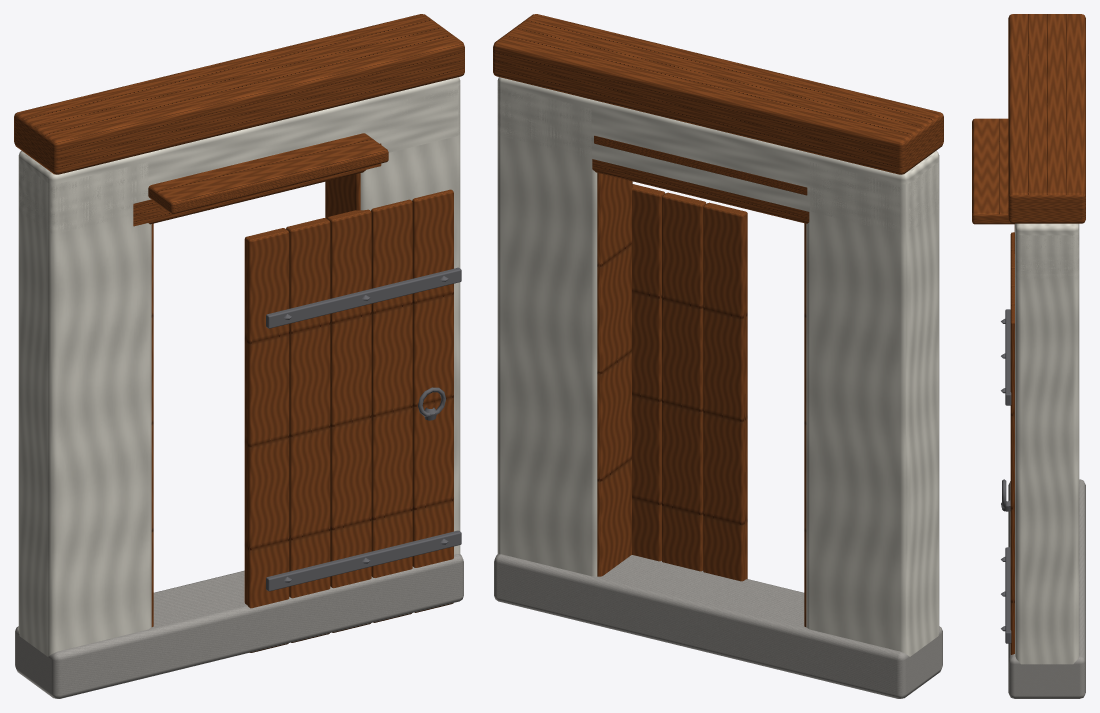
Rendered from witch-cottage-and-apothecary-cob-wall-door-section-ec4fa38c__32433.glb.
3 renders of one model, left to right at view 1: azimuth 30°, elevation 25°; view 2: azimuth 150°, elevation 25°; view 3: azimuth 270°, elevation 25°, orthographic. The views are drawn at different scales.
Visible parts, largest first — view 1: cob-wall-door-section, door-cottage/oak, door-cottage/iron; view 2: cob-wall-door-section, door-cottage/oak; view 3: cob-wall-door-section, door-cottage/oak, door-cottage/iron.
Part boxes in pixels (x1,y1,x2,y2): cob-wall-door-section: (14, 14, 464, 698); door-cottage/oak: (244, 189, 453, 652); door-cottage/iron: (266, 267, 461, 591); cob-wall-door-section: (493, 14, 943, 698); door-cottage/oak: (632, 184, 747, 581); cob-wall-door-section: (972, 14, 1085, 698); door-cottage/oak: (1010, 232, 1014, 654); door-cottage/iron: (1001, 309, 1011, 643).
Bounding box in the file's own units: 2 × 2.6 × 0.5287.
4 materials, 3 textured.
